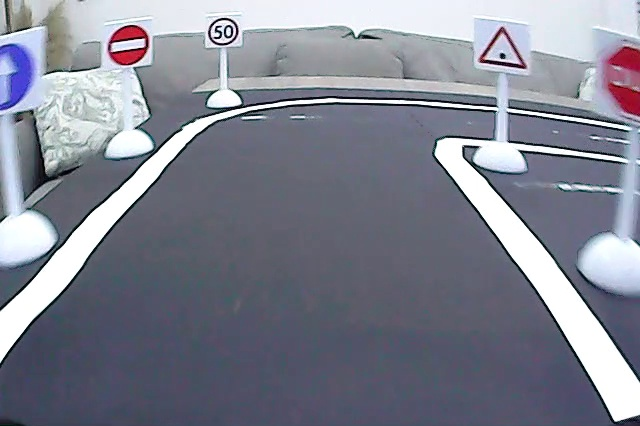do not enter: (105, 21, 151, 70)
green light: (476, 22, 531, 72)
speed limit 50: (207, 14, 241, 47)
